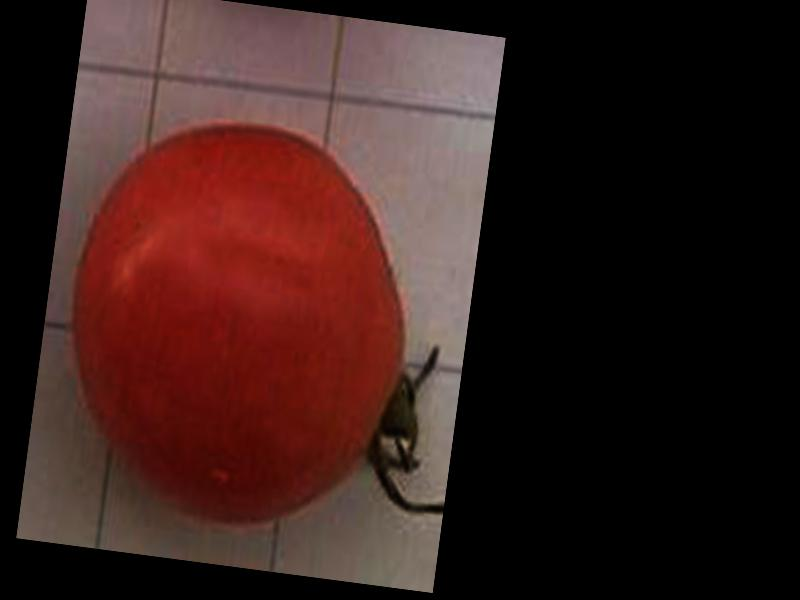Tomato: (47, 105, 430, 543)
